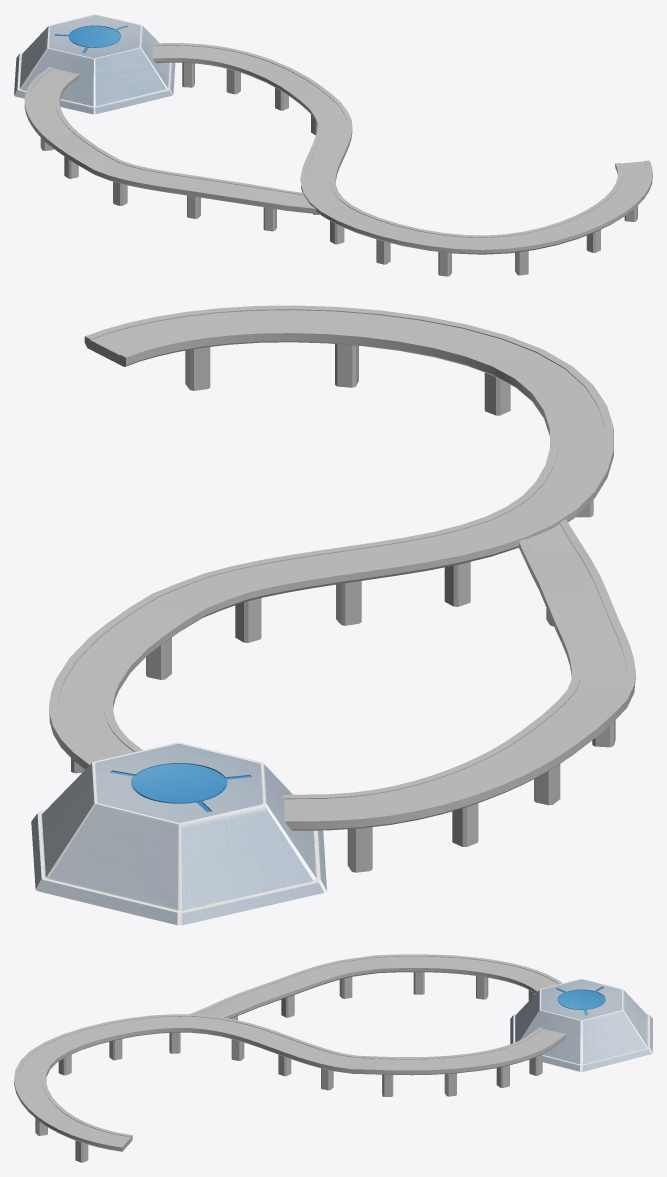
The model's file is road_f(3).fbx.
3 renders of one model, top to bottom at view 1: azimuth 30°, elevation 25°; view 2: azimuth 150°, elevation 25°; view 3: azimuth 270°, elevation 25°, orthographic. The views are drawn at different scales.
Parts seen in each view (by area): view 1: polySurface1, base2, hole; view 2: polySurface1, base2, hole, pCube15, pCube8, pCube7, pCube6, pCube14, pCube16, pCube13, pCube12, pCube17; view 3: polySurface1, base2, hole.
Part boxes in pixels (<box>): polySurface1: <box>24,43,652,254</box>; base2: <box>14,14,175,114</box>; hole: <box>55,26,126,53</box>; polySurface1: <box>49,305,635,830</box>; base2: <box>31,742,326,925</box>; hole: <box>111,764,250,811</box>; pCube15: <box>347,827,372,872</box>; pCube8: <box>444,562,470,606</box>; pCube7: <box>336,581,361,625</box>; pCube6: <box>235,598,261,642</box>; pCube14: <box>185,347,210,390</box>; pCube16: <box>452,803,478,846</box>; pCube13: <box>335,344,358,387</box>; pCube12: <box>484,373,510,415</box>; pCube17: <box>534,764,560,805</box>; polySurface1: <box>14,954,566,1151</box>; base2: <box>510,978,652,1071</box>; hole: <box>556,987,605,1015</box>.
Bounding box in the file's own units: 14.22 × 1.5 × 19.97.
